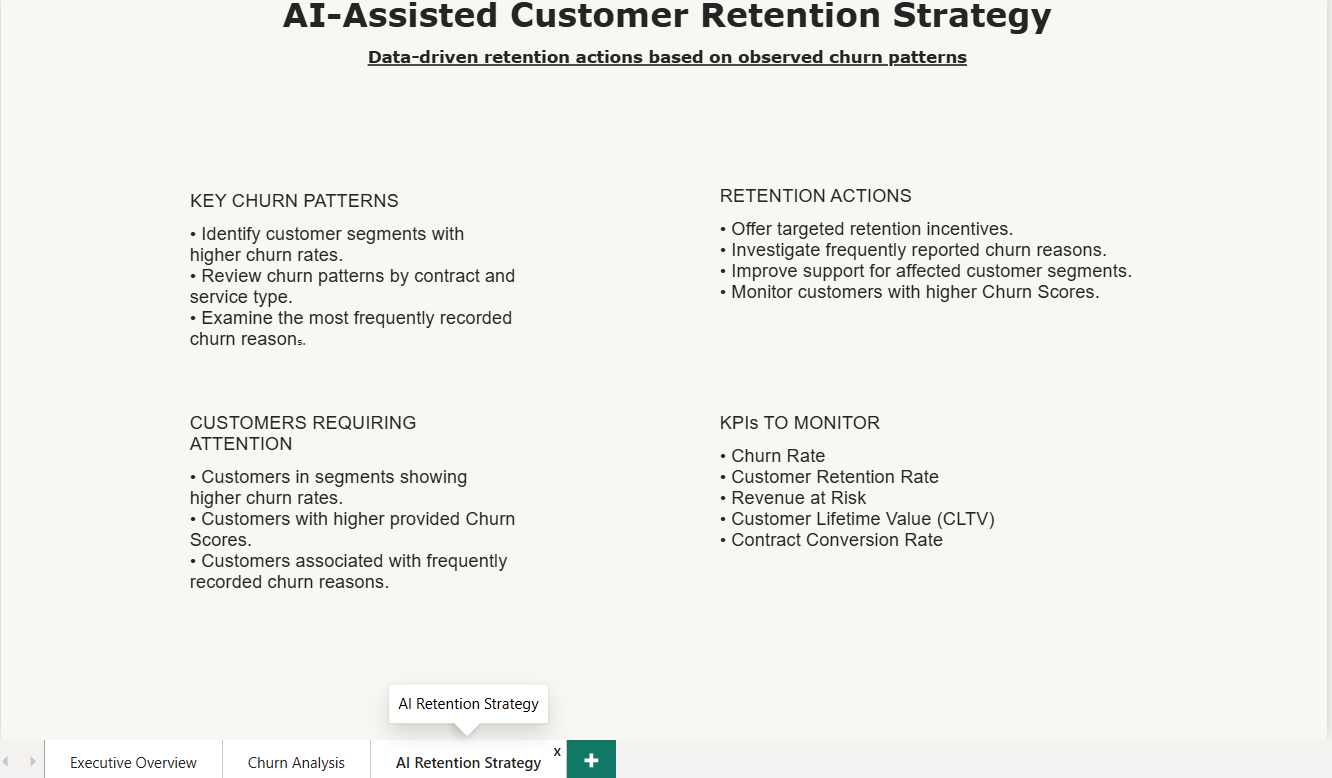

What the dashboard file says about the page in this screenshot:
{"tool":"powerbi","page":{"name":"AI Retention Strategy","canvas":[1920,1080],"ordinal":2},"visuals":[{"type":"textbox","box":[394.5,0,1140.1,217.2],"z":0},{"type":"textbox","box":[273.3,280.5,477.8,300.4],"z":1},{"type":"textbox","box":[273.3,606.2,478,300],"z":2},{"type":"textbox","box":[1040.6,276.9,734.7,262.4],"z":3},{"type":"textbox","box":[1040.6,606.2,608,313.1],"z":4}]}

Visuals, with their boxes on the page's 1920x1080 design canvas (x1, y1, x2, y2). These are canvas units, not pixel positions in the 1332x778 screenshot, which may show the page scaled, cropped or inside an application window:
textbox: x1=394 y1=0 x2=1535 y2=217
textbox: x1=273 y1=280 x2=751 y2=581
textbox: x1=273 y1=606 x2=751 y2=906
textbox: x1=1041 y1=277 x2=1775 y2=539
textbox: x1=1041 y1=606 x2=1649 y2=919
